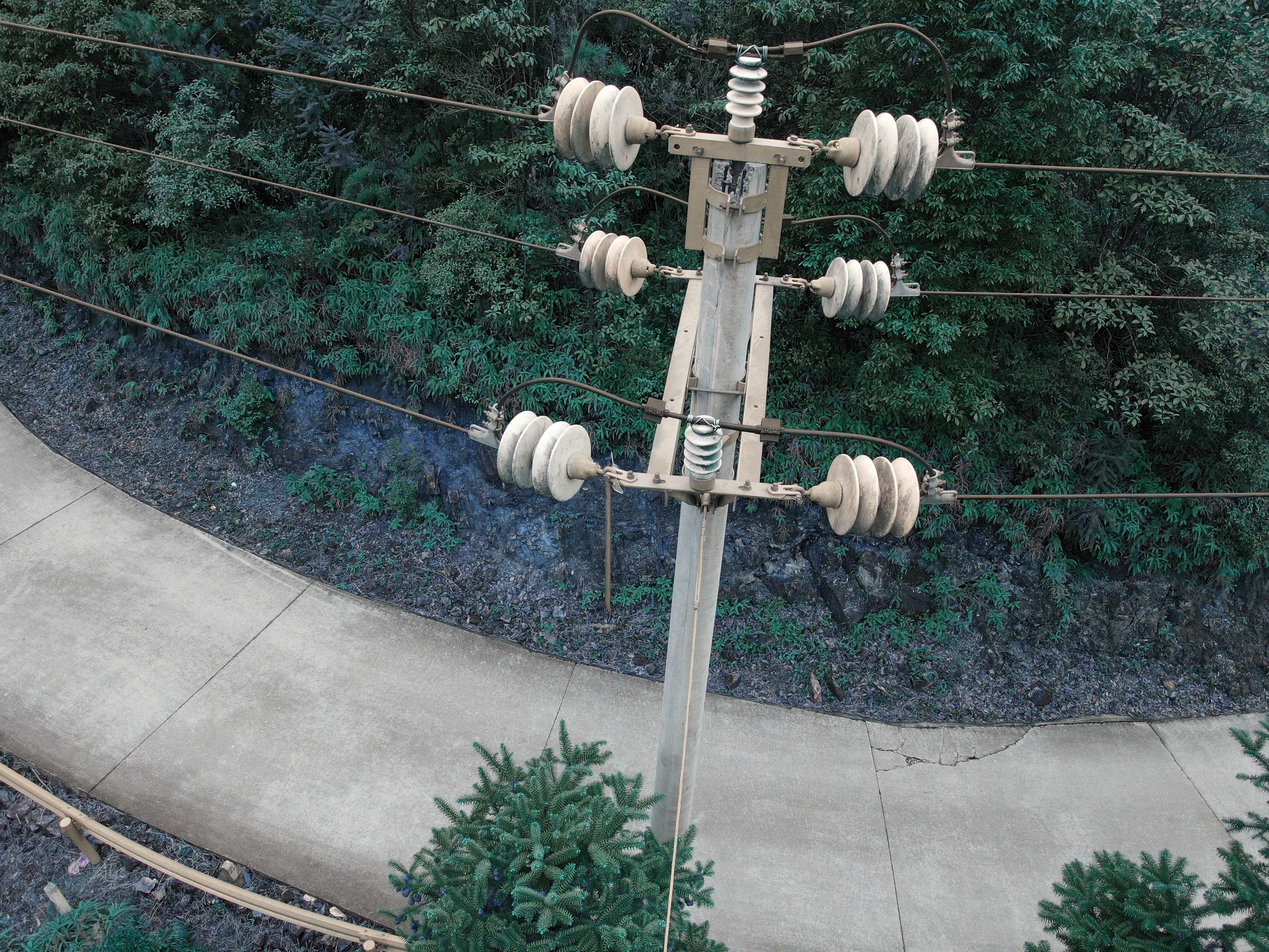severe_soiling_no_discharge_whole: (829, 106, 945, 206), (550, 76, 661, 175), (809, 450, 927, 542), (490, 411, 603, 503), (809, 256, 895, 326), (574, 229, 657, 296), (724, 54, 768, 145), (680, 415, 726, 490)
